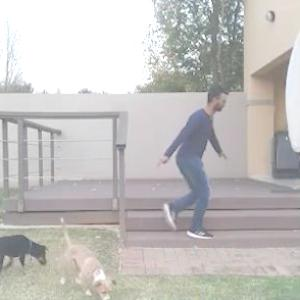land: (116, 77, 236, 250)
